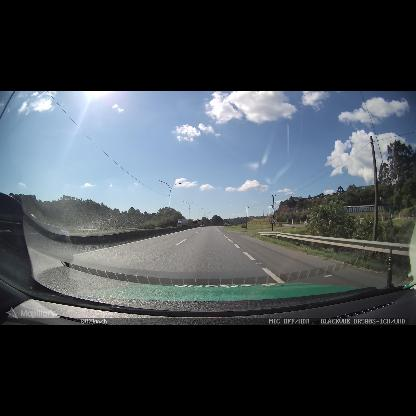R-19: (269, 218, 275, 224)
